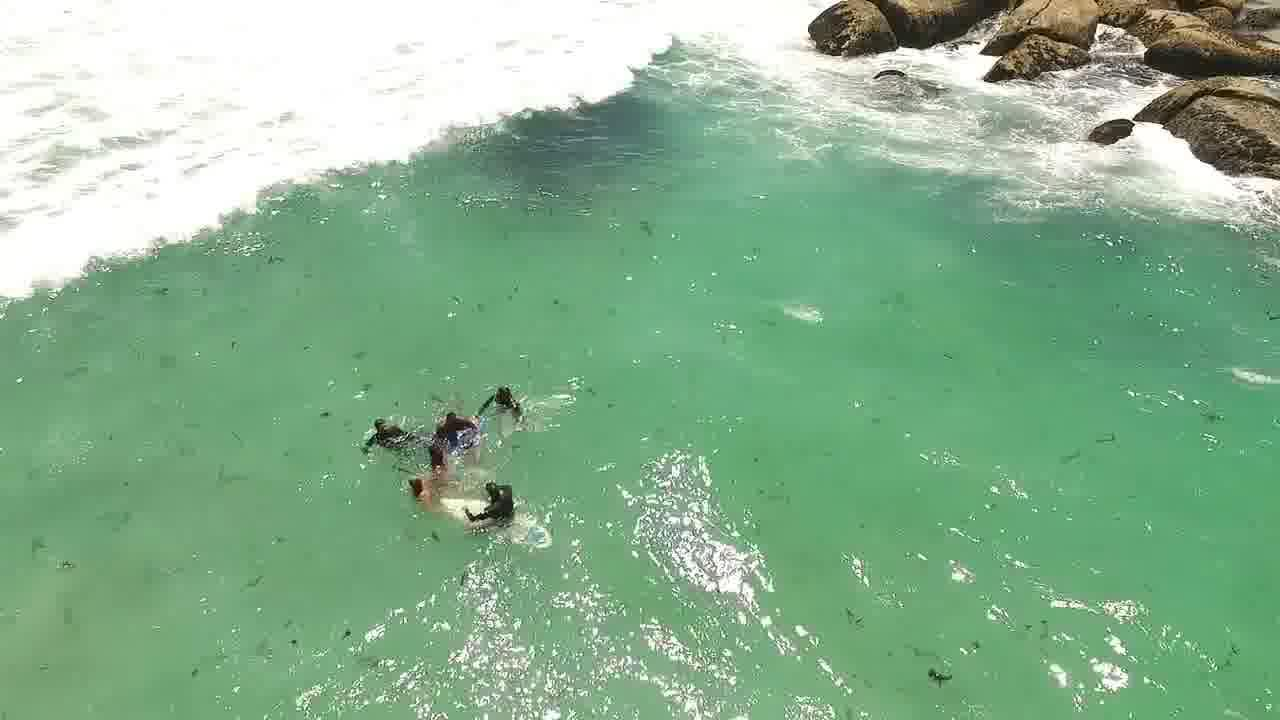human: (473, 373, 533, 429), (344, 406, 417, 449), (390, 465, 447, 513), (417, 436, 473, 484), (429, 397, 479, 443)
